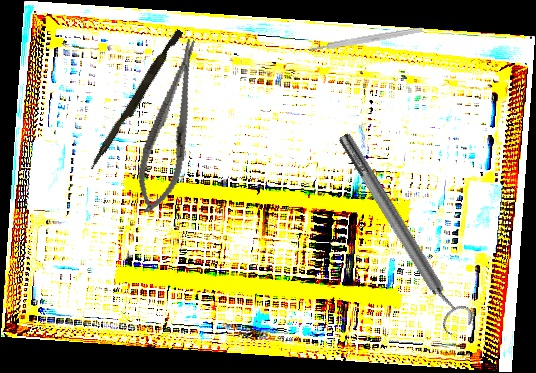Fixation Ring: (329, 125, 478, 339)
Needle Holder: (128, 34, 214, 219)
Pusher: (88, 26, 184, 174)
Scalpel Handle: (308, 26, 423, 53)
